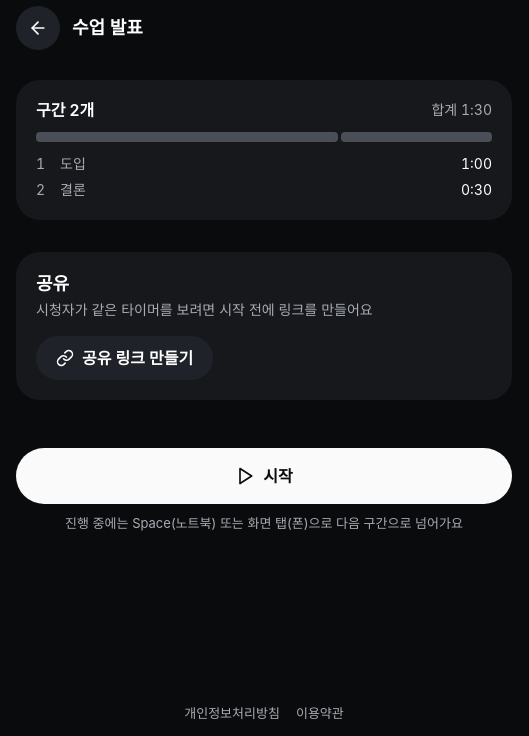
RunScreen sharing › shows a creation exception without changing local state
This screenshot has width=529, height=736.
Click the button "공유 링크 만들기" at (125, 358), box [36, 336, 213, 380]
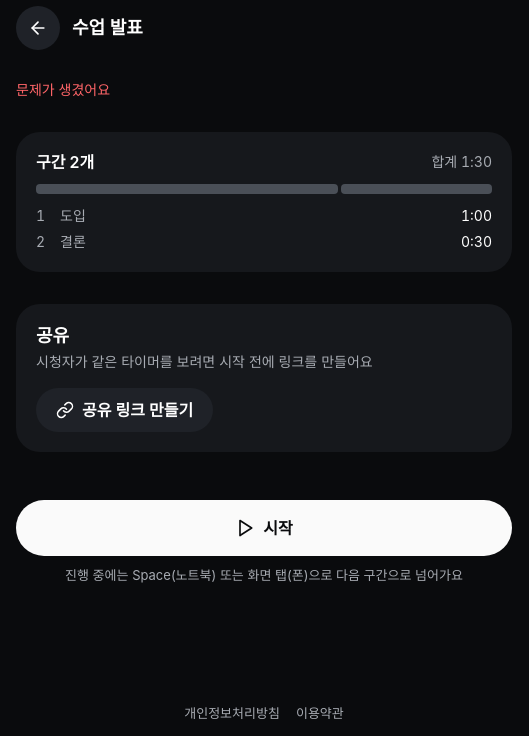
Expected: the message reads "문제가 생겼어요", [16, 81, 110, 98]
